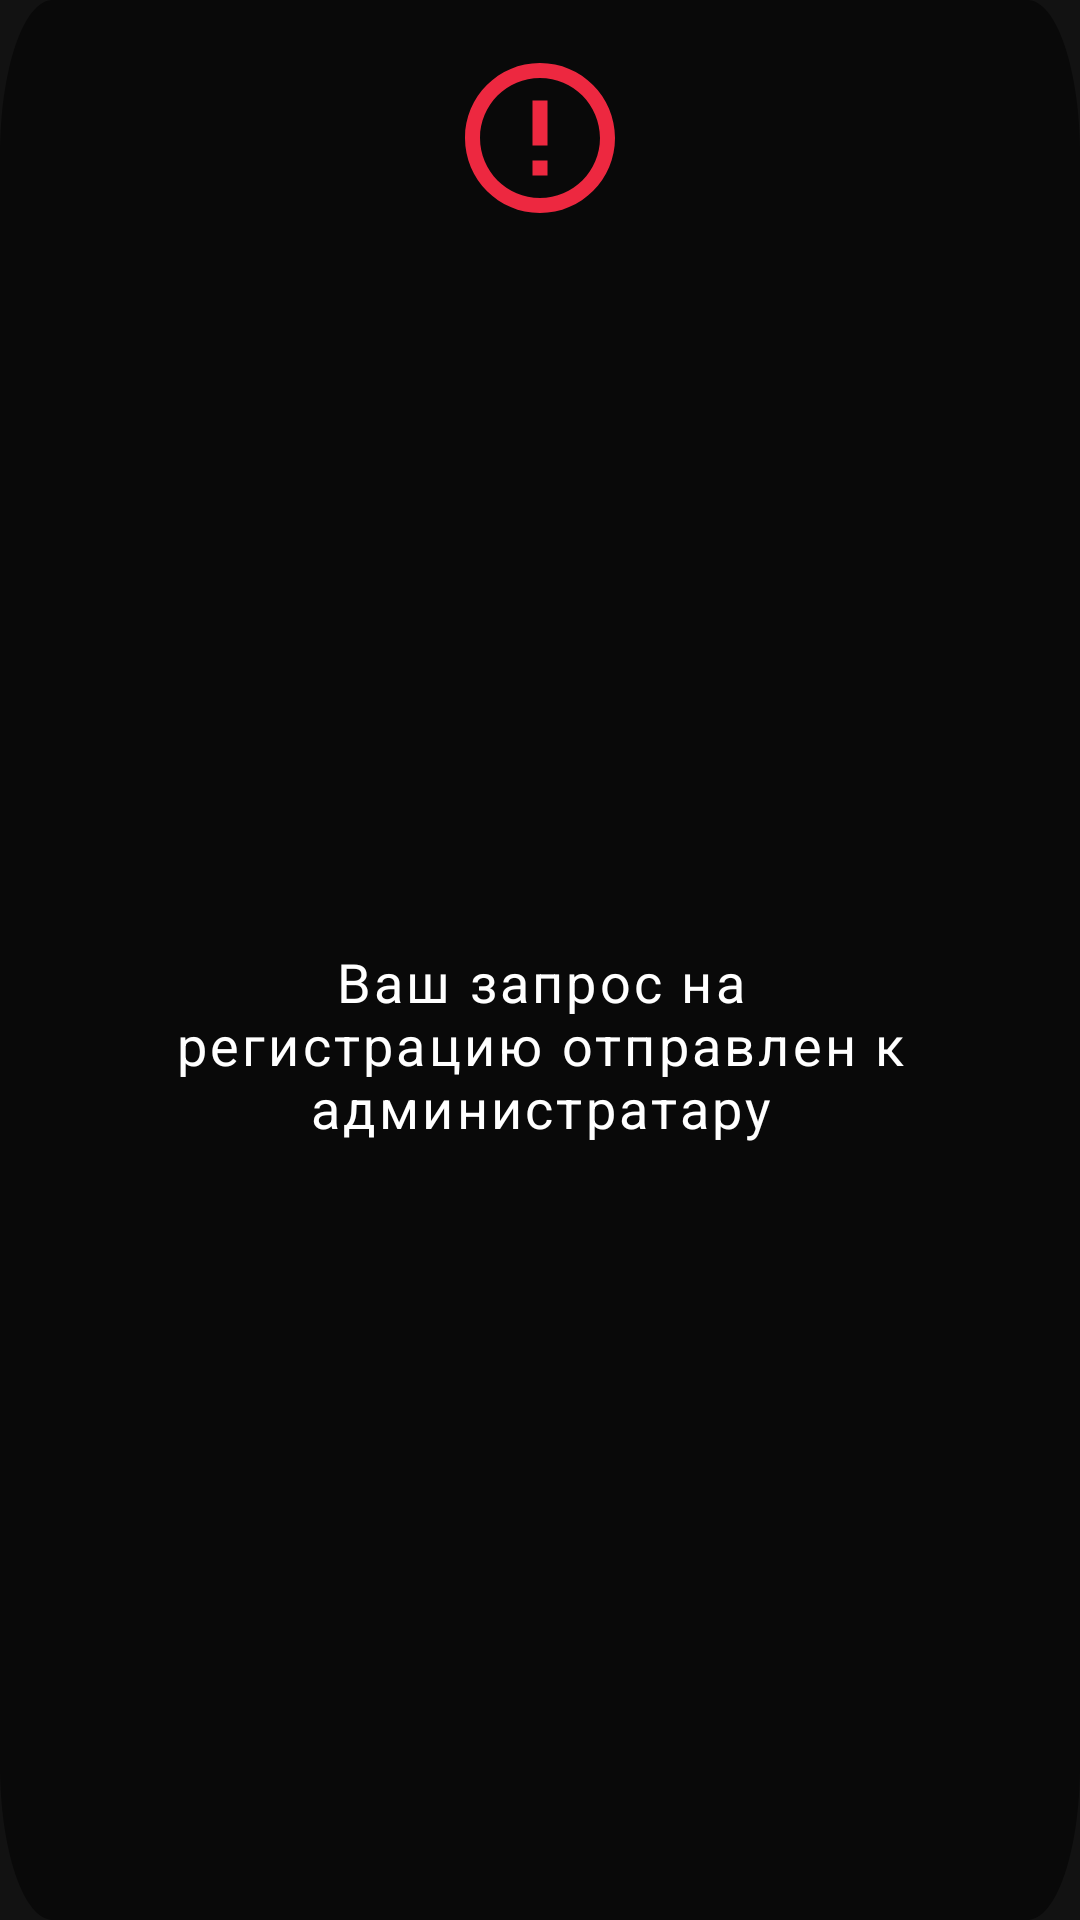

Screen size 1080 × 1920. Icon name, then its center in pixels as (x,y):
error: (540,138)
